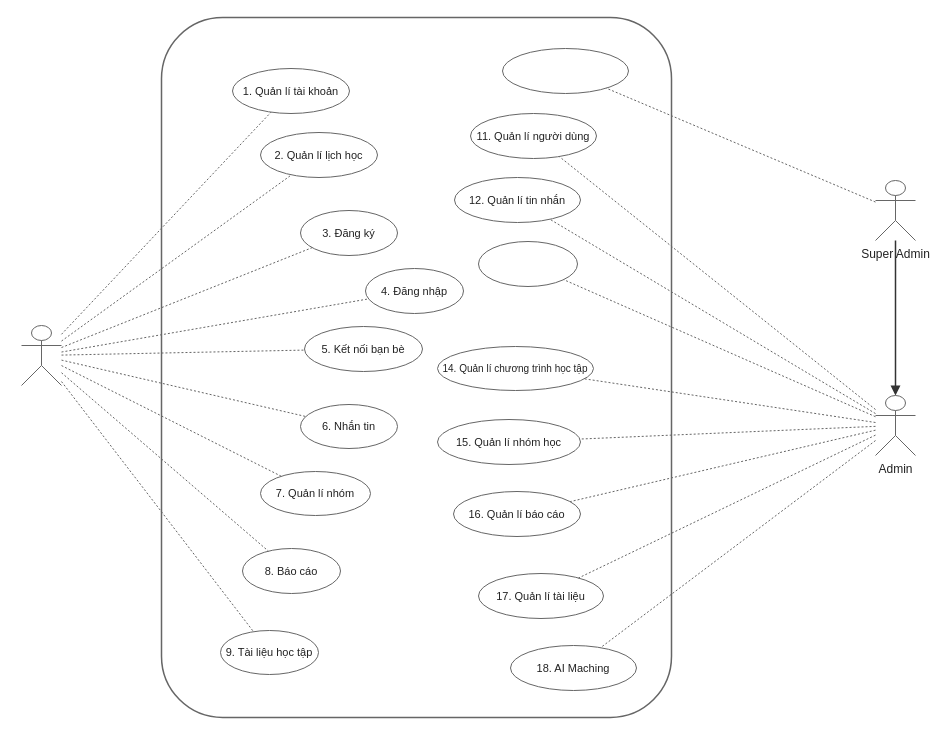
The diagram is 947 pixels wide and 736 high, and some of its shapes have lost their labels. The centre of each missing label's shape, as x and y in pixels:
"10. Nhật ký hoạt động" belongs at pixel 565 71.
"13. Thống kê" belongs at pixel 528 263.
"Sinh viên" belongs at pixel 41 355.
